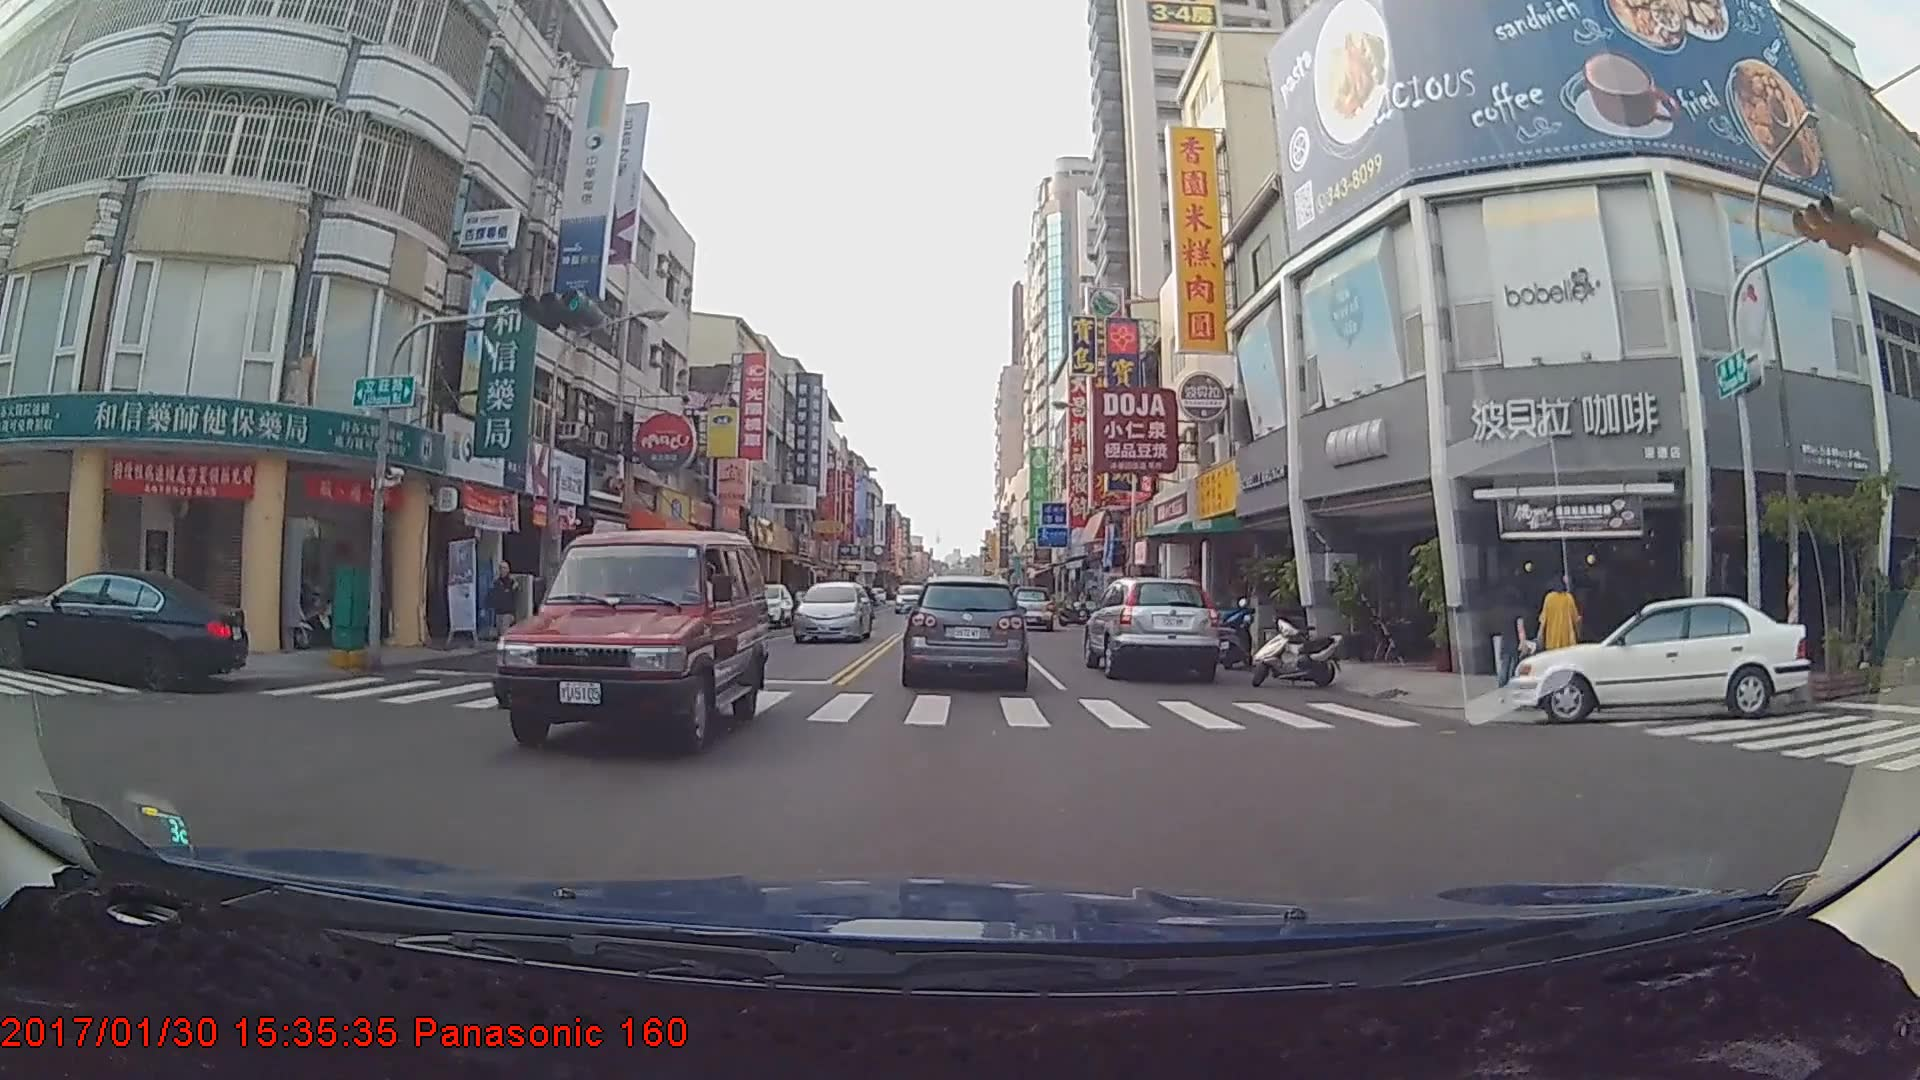pedestrian: (1538, 570, 1582, 677), (482, 561, 528, 664), (1494, 587, 1533, 689)
vehicle: (481, 527, 770, 759), (1505, 594, 1811, 726), (0, 567, 247, 691), (1083, 575, 1221, 682), (902, 576, 1023, 686), (792, 579, 874, 644), (733, 581, 792, 629), (1007, 587, 1054, 632), (893, 583, 928, 614)
